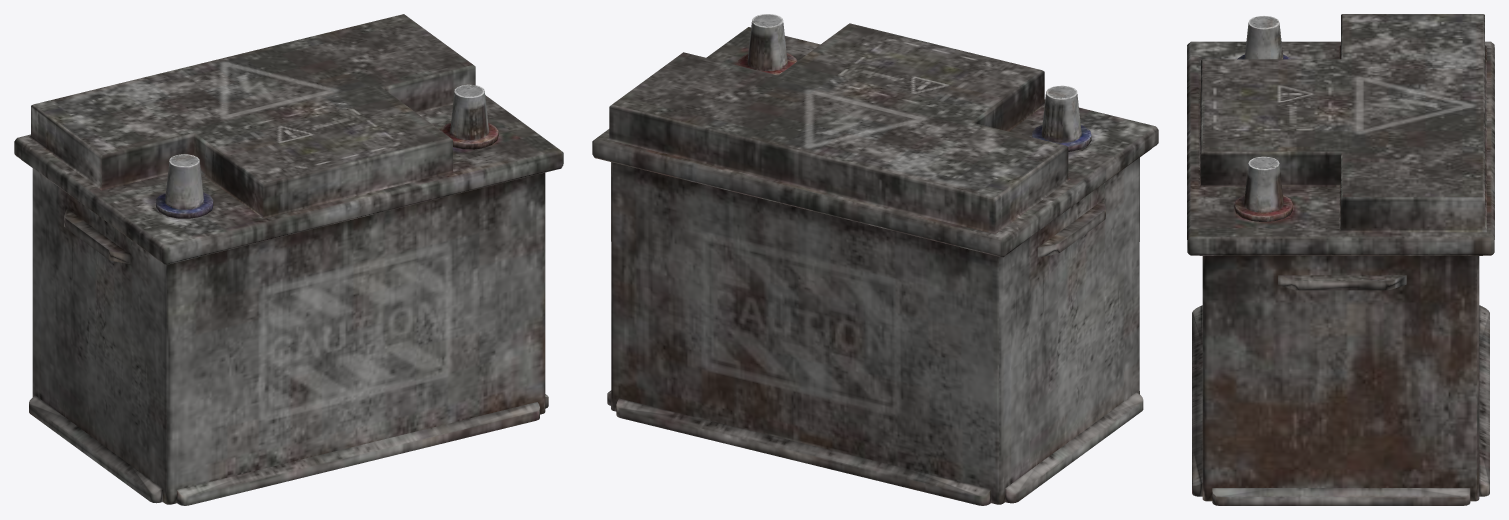
File: bateria_microverso.glb
The picture shows the model from 3 angles, left to right: view 1: azimuth 30°, elevation 25°; view 2: azimuth 150°, elevation 25°; view 3: azimuth 270°, elevation 25°; orthographic projection. The views are drawn at different scales.
Visible parts, largest first — view 1: bateria_microverso; view 2: bateria_microverso; view 3: bateria_microverso.
Boxes of the visible parts, <box> form: bateria_microverso: <box>14,14,563,505</box>; bateria_microverso: <box>592,14,1158,505</box>; bateria_microverso: <box>1187,14,1494,505</box>.
Bounding box in the file's own units: 0.2 × 0.1478 × 0.1308.
1 material, 1 textured.
